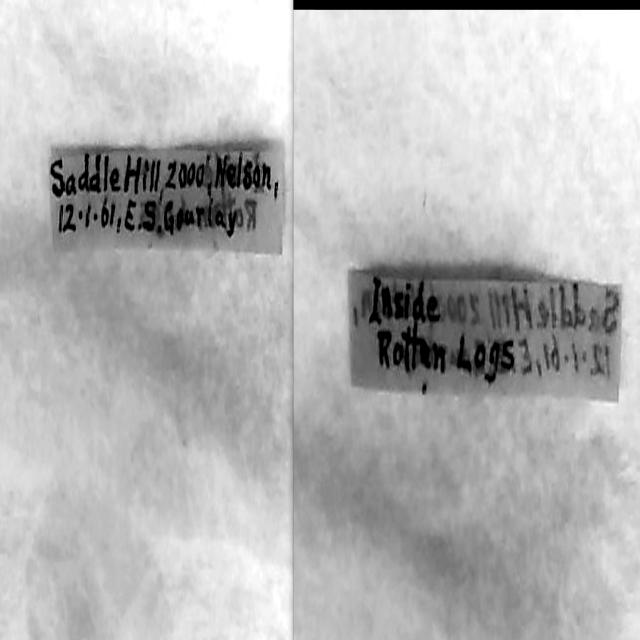hand_label: (349, 271, 621, 401), (50, 147, 284, 254)
